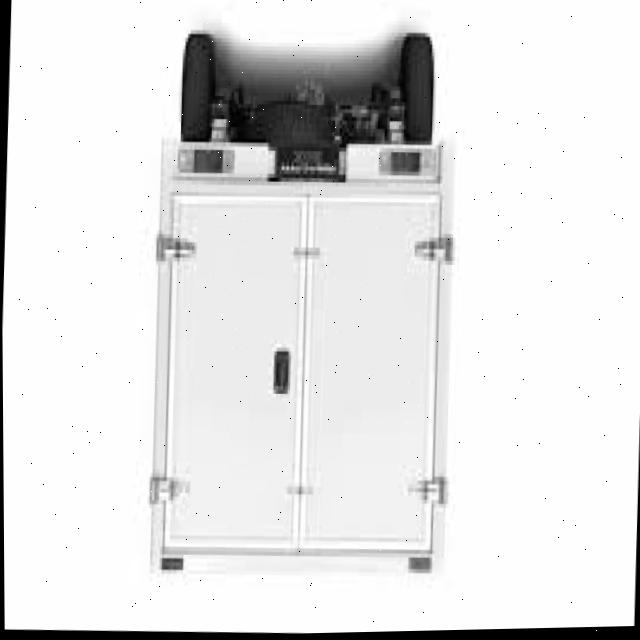truck: (137, 108, 468, 612)
